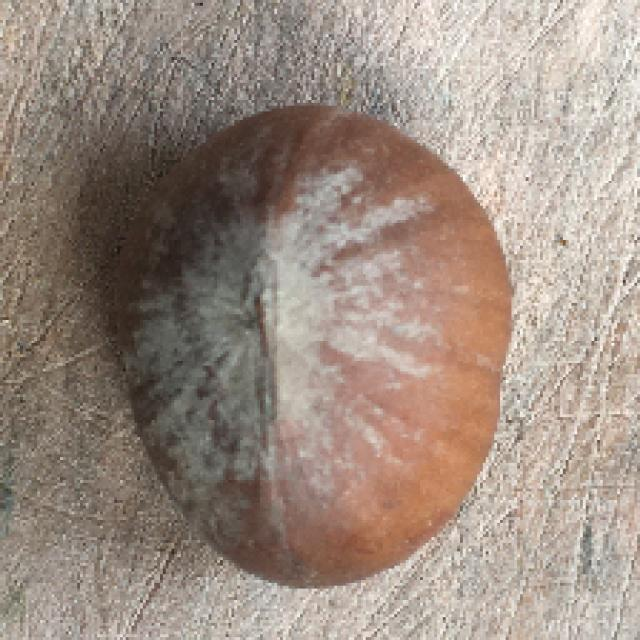qualityHazelnut: (119, 112, 508, 592)
